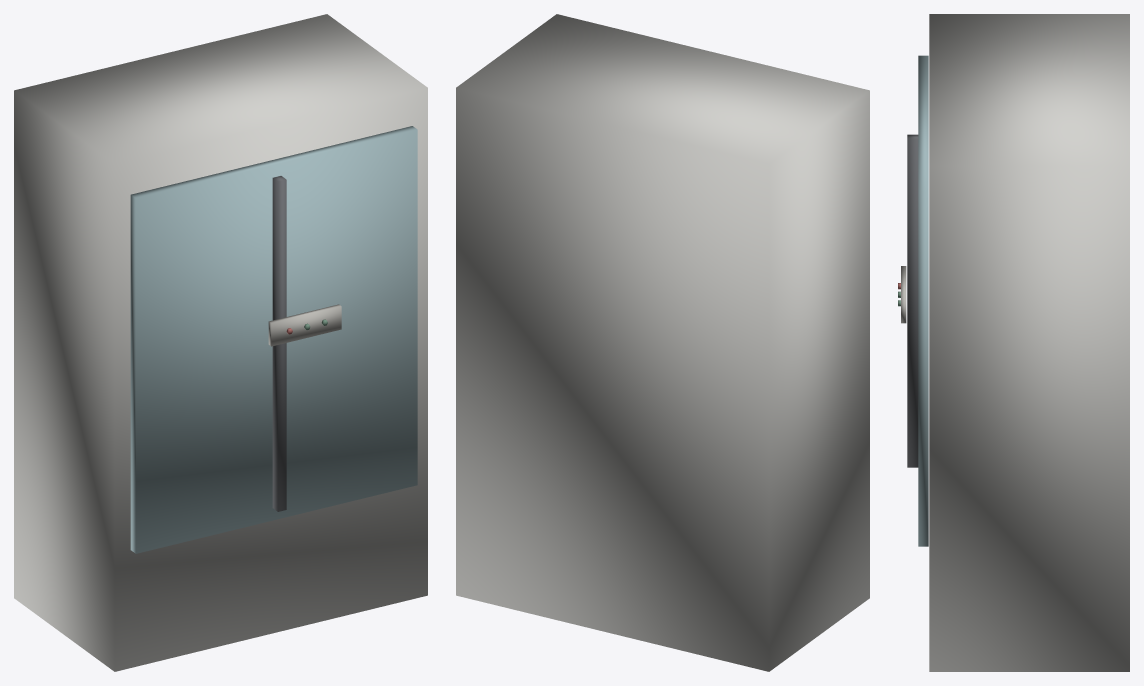
Rendered from freezer_chest__compact.glb.
3 views of the same model, side by side, from view 1: azimuth 30°, elevation 25°; view 2: azimuth 150°, elevation 25°; view 3: azimuth 270°, elevation 25° (orthographic).
Parts seen in each view (by area): view 1: world; view 2: world; view 3: world.
Part boxes in pixels (left/top/right/bottom): world: left=14, top=14, right=427, bottom=671; world: left=456, top=14, right=869, bottom=671; world: left=898, top=14, right=1129, bottom=671.
Size of the model in its own units: 1.05 by 1.63 by 0.676.
